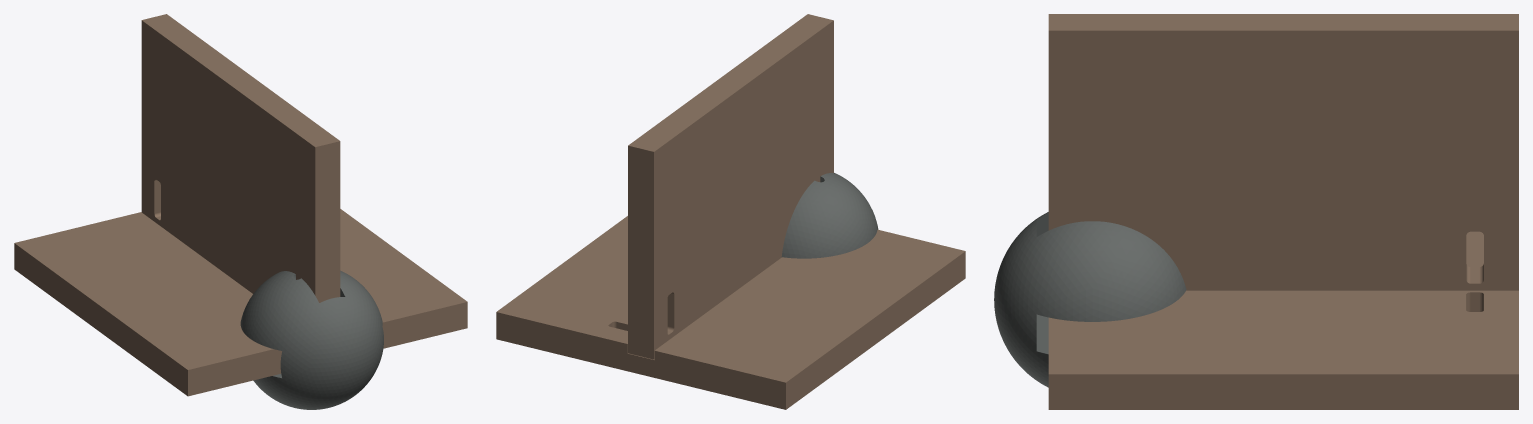
File: sample-assembled.glb
The picture shows the model from 3 angles, left to right: view 1: azimuth 30°, elevation 25°; view 2: azimuth 150°, elevation 25°; view 3: azimuth 270°, elevation 25°; orthographic projection. The views are drawn at different scales.
Visible parts, largest first — view 1: partition-0, shelf-0, sphere-inner-x600-0-front; view 2: partition-0, shelf-0, sphere-inner-x600-0-front; view 3: partition-0, shelf-0, sphere-inner-x600-0-front.
Part boxes in pixels (x1,y1,x2,y2): partition-0: [141, 14, 340, 302]; shelf-0: [14, 209, 467, 396]; sphere-inner-x600-0-front: [240, 270, 383, 409]; partition-0: [628, 14, 833, 359]; shelf-0: [496, 216, 965, 409]; sphere-inner-x600-0-front: [781, 173, 878, 258]; partition-0: [1048, 14, 1518, 290]; shelf-0: [1048, 231, 1518, 409]; sphere-inner-x600-0-front: [994, 212, 1186, 387].
Size of the model in its own units: 0.2 by 0.185 by 0.24.
